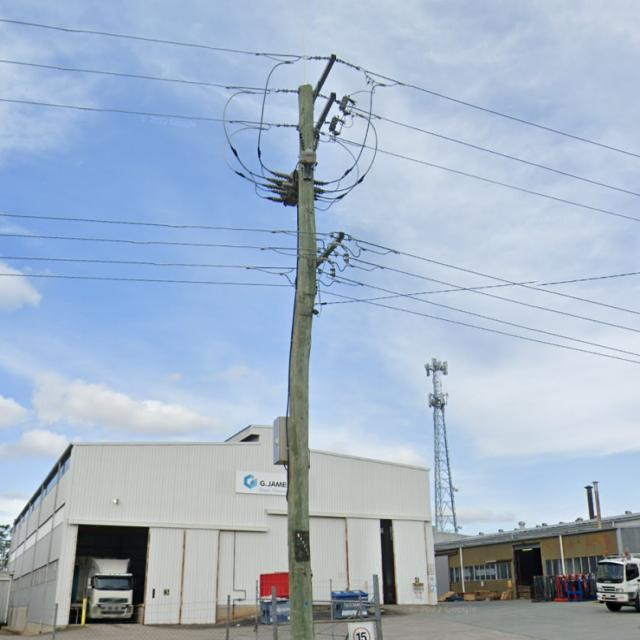HV-switch: (262, 171, 330, 207)
HV-transmission: (275, 54, 360, 136)
LV link: (329, 240, 398, 259), (320, 254, 386, 271)
crossarm: (312, 53, 336, 106), (317, 232, 345, 269), (314, 92, 338, 133)
timber-pole: (285, 84, 316, 640)
